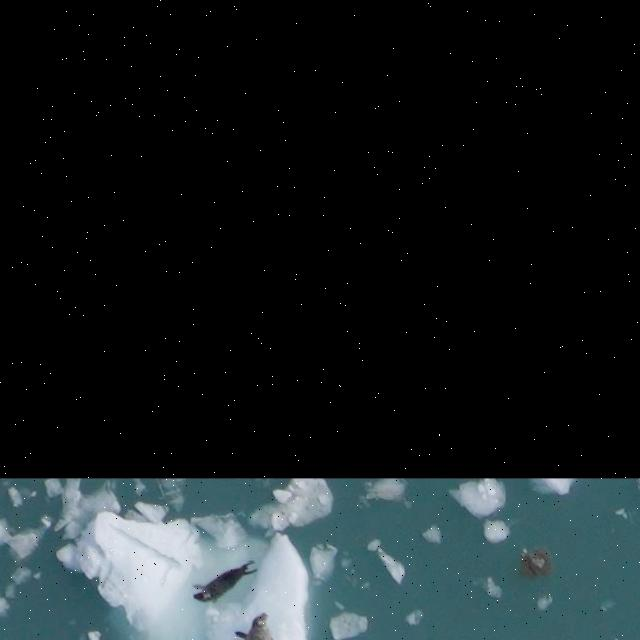seal: (188, 549, 261, 612), (238, 615, 274, 640)
